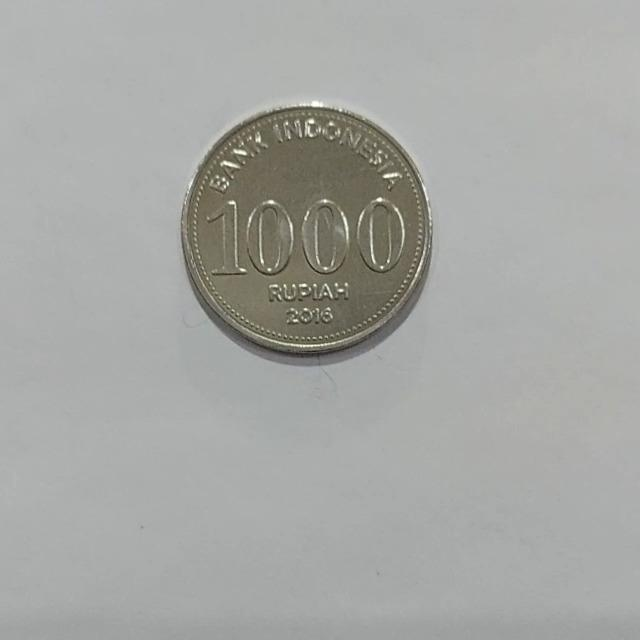Rp100: (178, 100, 433, 357)
